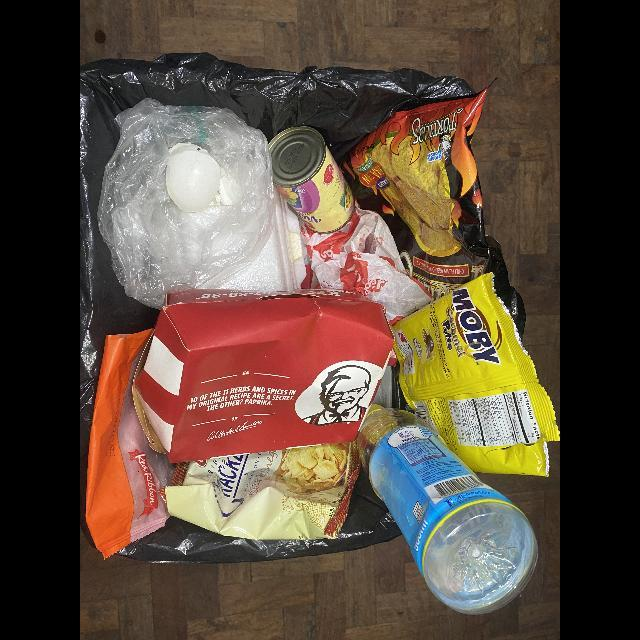biowaste: (166, 143, 221, 212)
metal: (269, 126, 355, 235)
paper: (133, 289, 395, 463), (298, 198, 433, 325)
plastic: (357, 404, 539, 615), (97, 97, 277, 310)
styrofoam: (212, 192, 307, 290)
wrapper: (337, 78, 527, 341), (390, 272, 560, 480), (86, 328, 177, 560), (156, 441, 361, 540)
